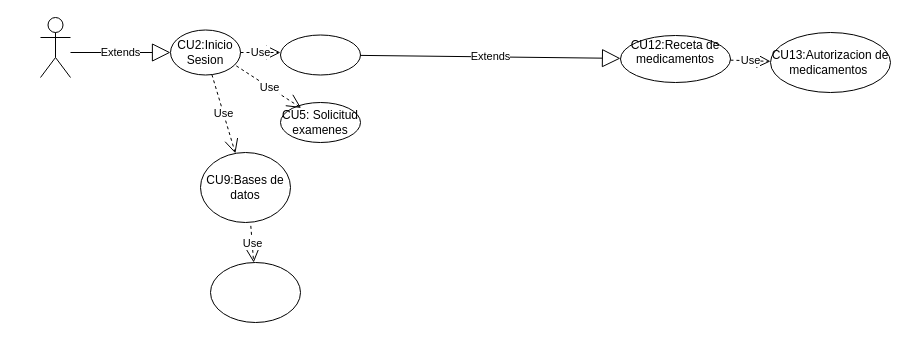
Some shapes in this 908 by 340 pixel diagram are drawn without their labels. Each missing label, with the centre of its shape:
"CU10: Historial medico paciente" goes at point (255, 292).
"CU3:Solicitud Citas" goes at point (320, 54).
"ENFERMERO" goes at point (55, 47).
